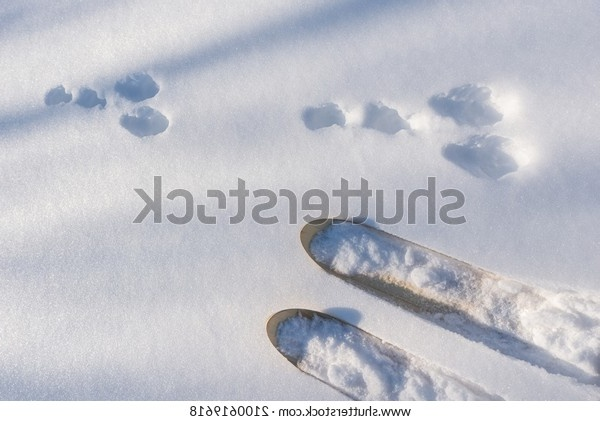rabbit: (33, 34, 185, 159)
